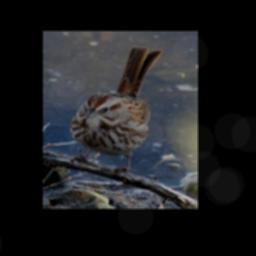Sparrow: (68, 45, 164, 179)
